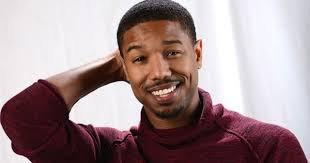Sober: (124, 29, 194, 105)
